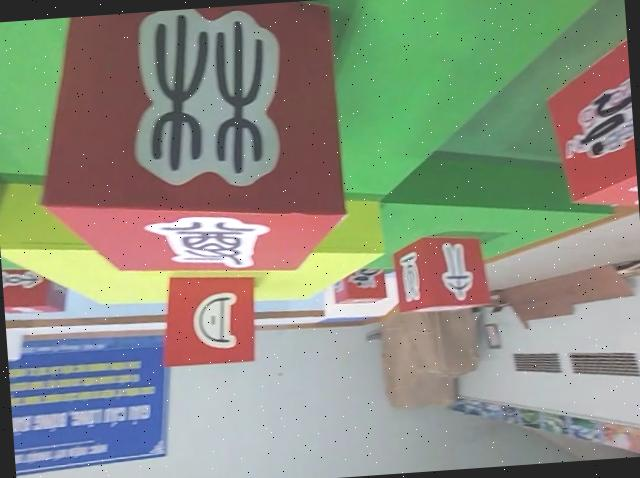R1: (540, 28, 639, 216), (330, 266, 389, 305)
R2 Fake: (29, 0, 356, 293), (390, 233, 493, 319)
R2 Real: (157, 269, 261, 370), (1, 260, 69, 315)
